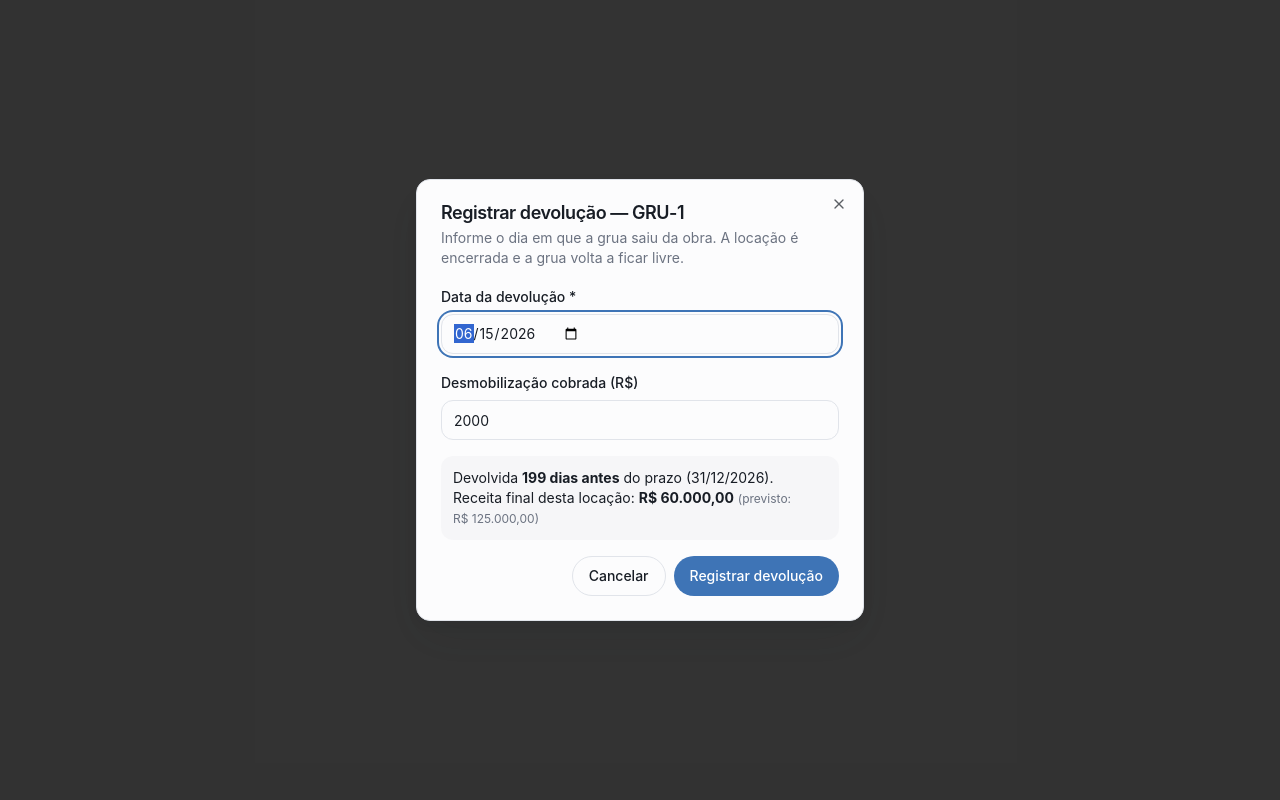
Test: registrar devolução › data antes do início não deixa registrar
In the date field labelled "Data da devolução *": (640, 334) [441,314,839,354], type "2025-12-31"
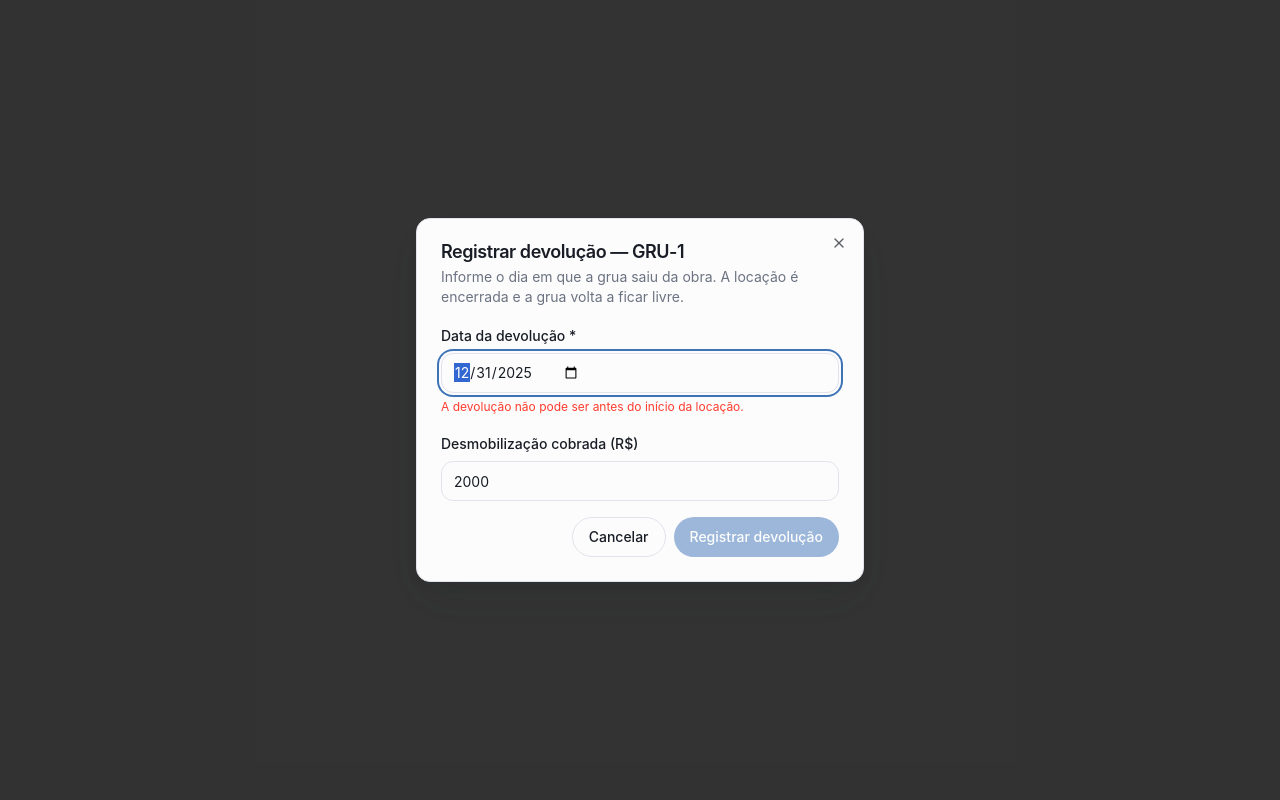
Check: the text "A devolução não pode ser antes do início da locação." is shown, box [441,399,744,414]
Check: the button "Registrar devolução" is disabled, box [674,517,839,557]
